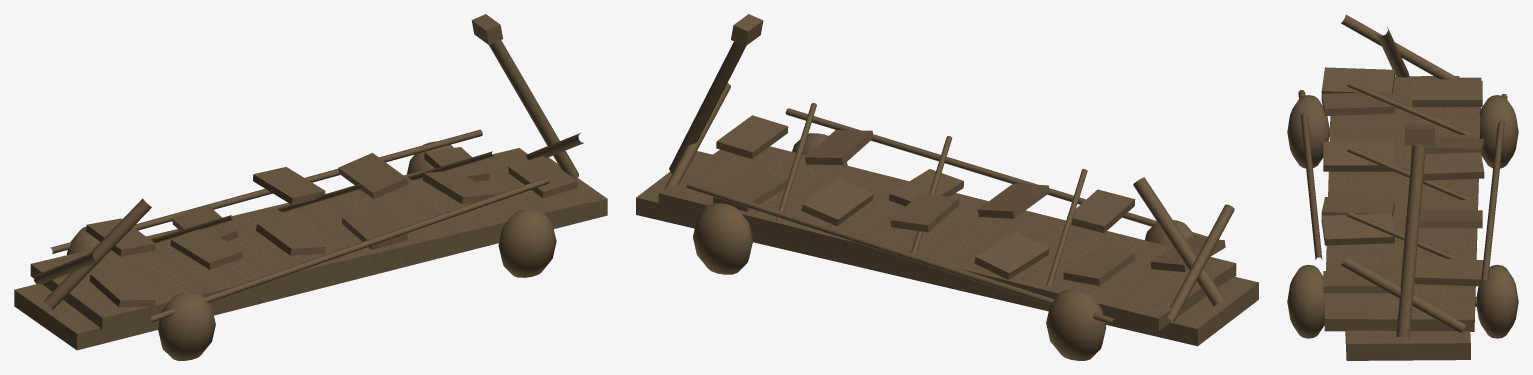
Rendered from freight-wagon-wreck.glb.
3 views of the same model, side by side, from view 1: azimuth 30°, elevation 25°; view 2: azimuth 150°, elevation 25°; view 3: azimuth 270°, elevation 25° (orthographic). The views are drawn at different scales.
Parts seen in each view (by area): view 1: LOD0; view 2: LOD0; view 3: LOD0.
Boxes of the visible parts, x1,y1,x2,y2 form: LOD0: [14, 14, 607, 360]; LOD0: [636, 14, 1258, 360]; LOD0: [1287, 14, 1518, 360].
Size of the model in its own units: 7.4 by 2.8 by 2.7.
Materials: 1 (1 with a texture image).
